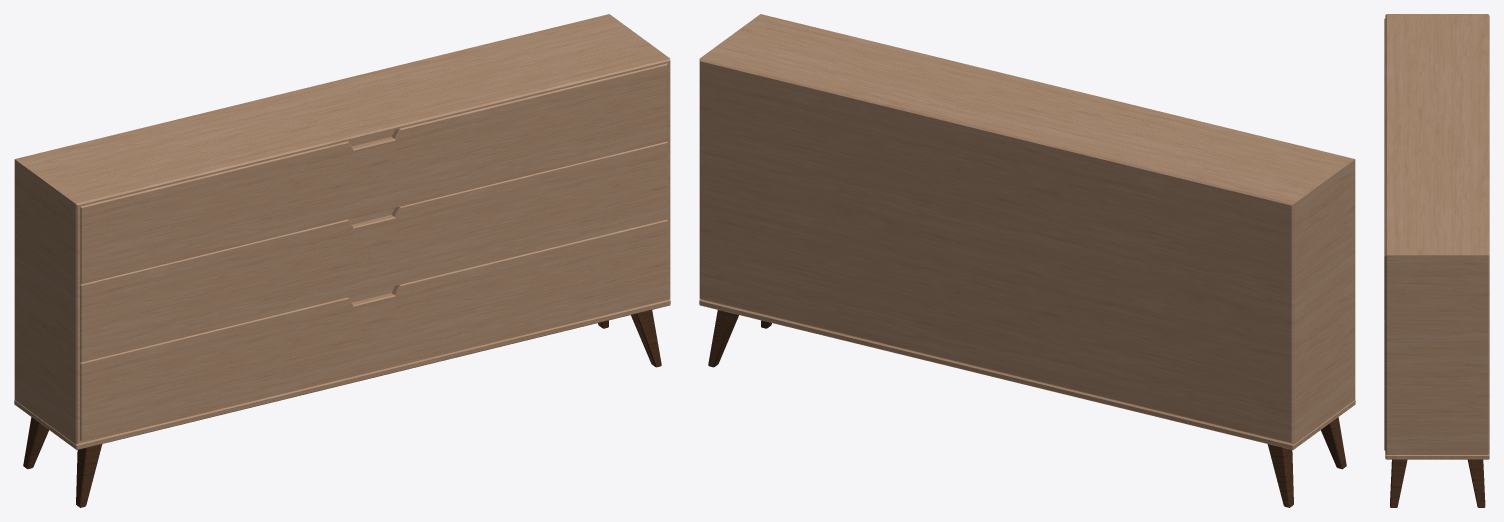
The model's file is CR06_COD.FBX.
3 renders of one model, left to right at view 1: azimuth 30°, elevation 25°; view 2: azimuth 150°, elevation 25°; view 3: azimuth 270°, elevation 25°, orthographic. The views are drawn at different scales.
Parts seen in each view (by area): view 1: CR06_COD; view 2: CR06_COD; view 3: CR06_COD.
Boxes of the visible parts, x1,y1,x2,y2 form: CR06_COD: (14, 14, 670, 507); CR06_COD: (699, 14, 1355, 507); CR06_COD: (1384, 14, 1489, 507).
Bounding box in the file's own units: 1938 × 958 × 359.
